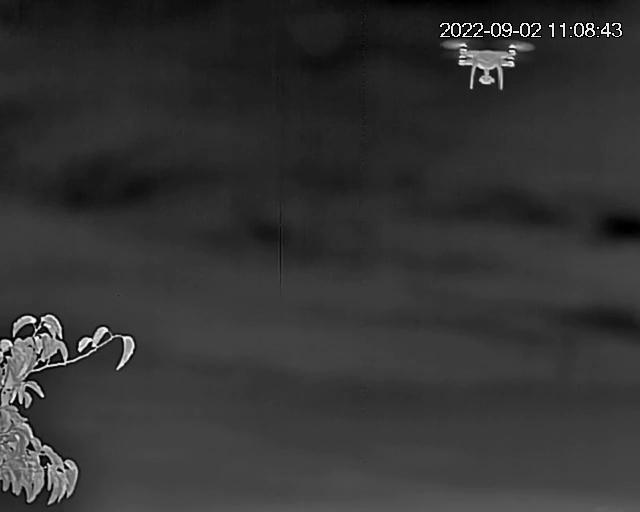DJI-Phantom: (447, 42, 532, 91)
